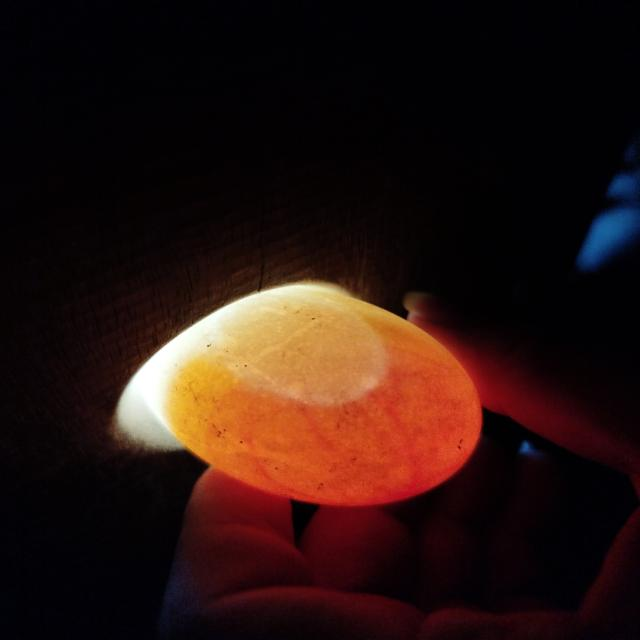Camara de Ar: (192, 292, 389, 405)
